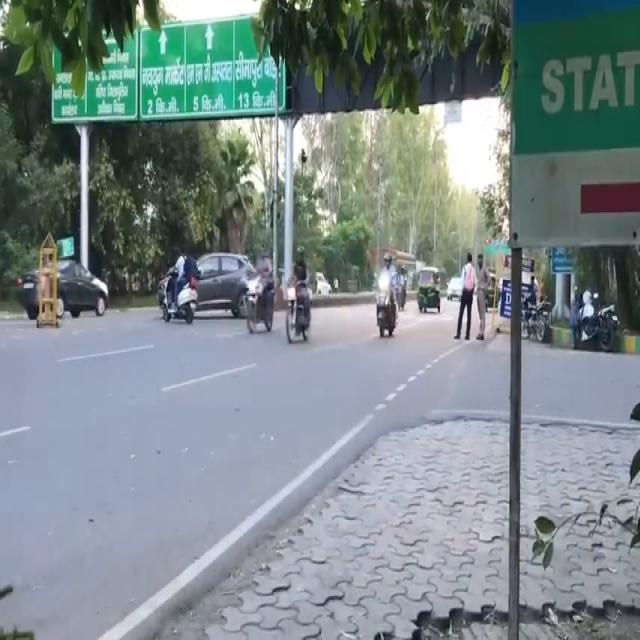MOTORCYCLE: (162, 269, 200, 323), (286, 276, 312, 344), (372, 275, 395, 335)
